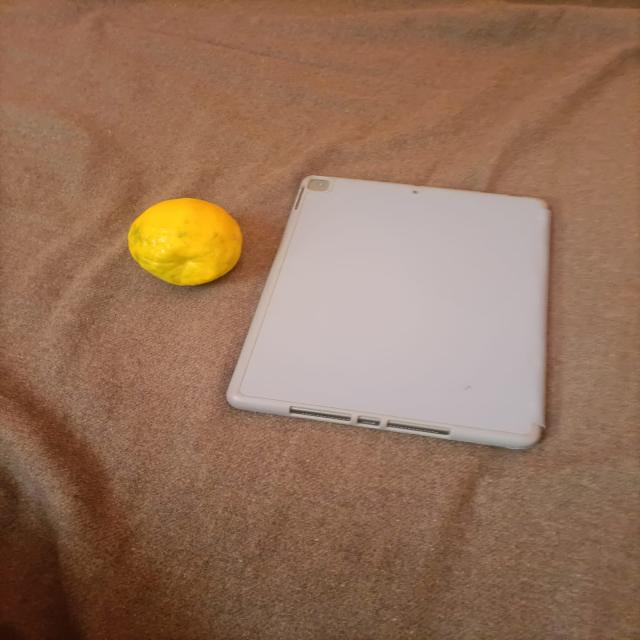orange: (111, 192, 265, 299)
tablet: (213, 133, 581, 461)
